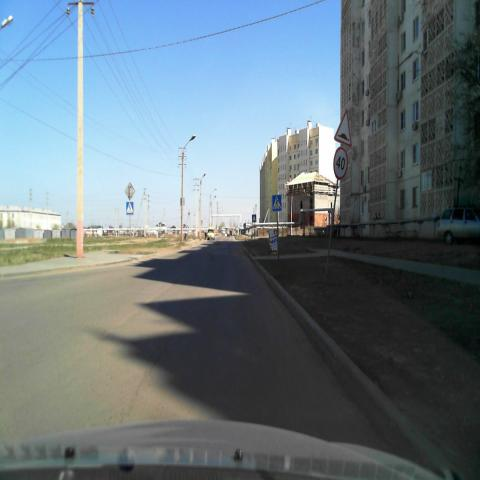1_17: (335, 110, 354, 148)
